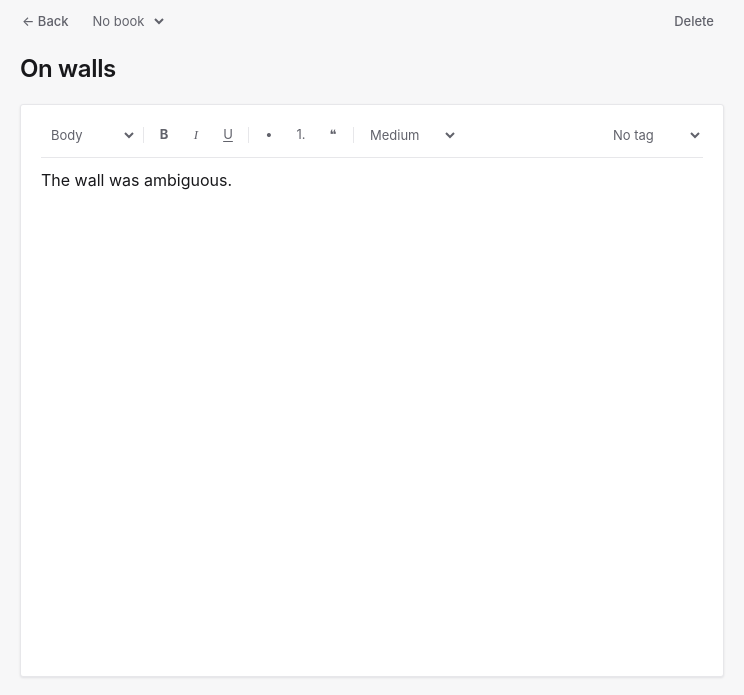
Test: renaming a note from its own page › stores the new title
The width and height of the screenshot is (744, 695).
Click the button "On walls" at (68, 69), box [16, 54, 120, 84]
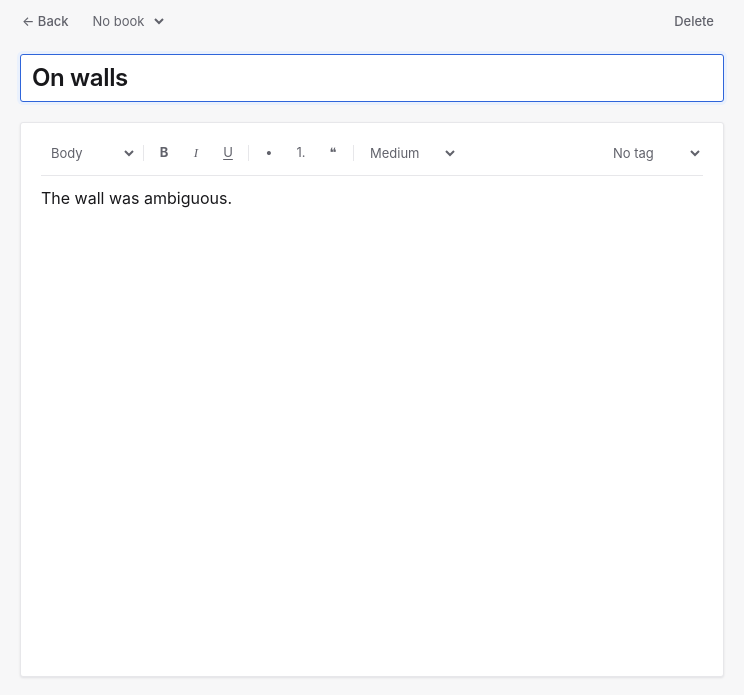
Replace the text in the field named "Note title" with "Ambiguity" at (372, 78), box [20, 54, 724, 102]
Then press Enter
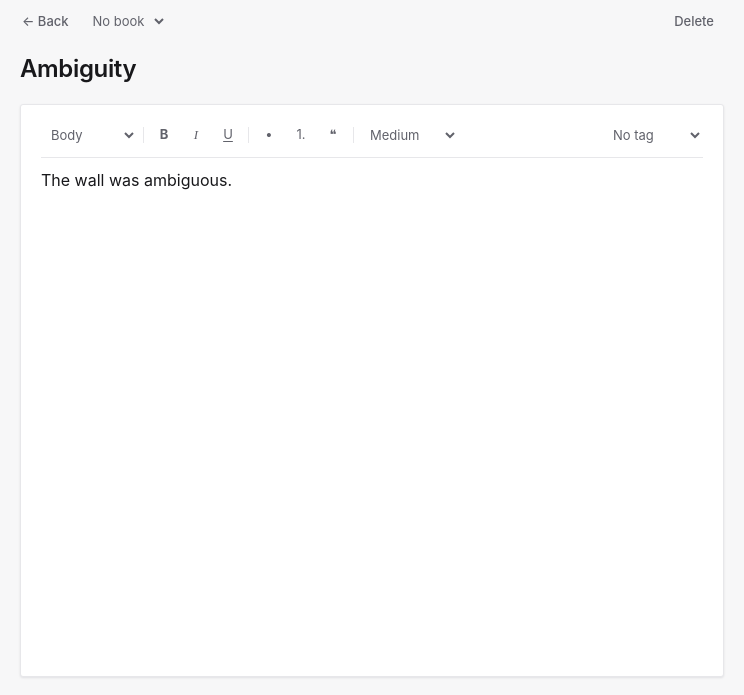
Expected: the button "Ambiguity" is shown, [16, 54, 140, 84]
